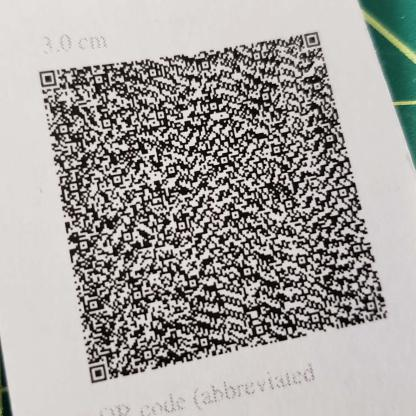qr: (37, 27, 397, 390)
